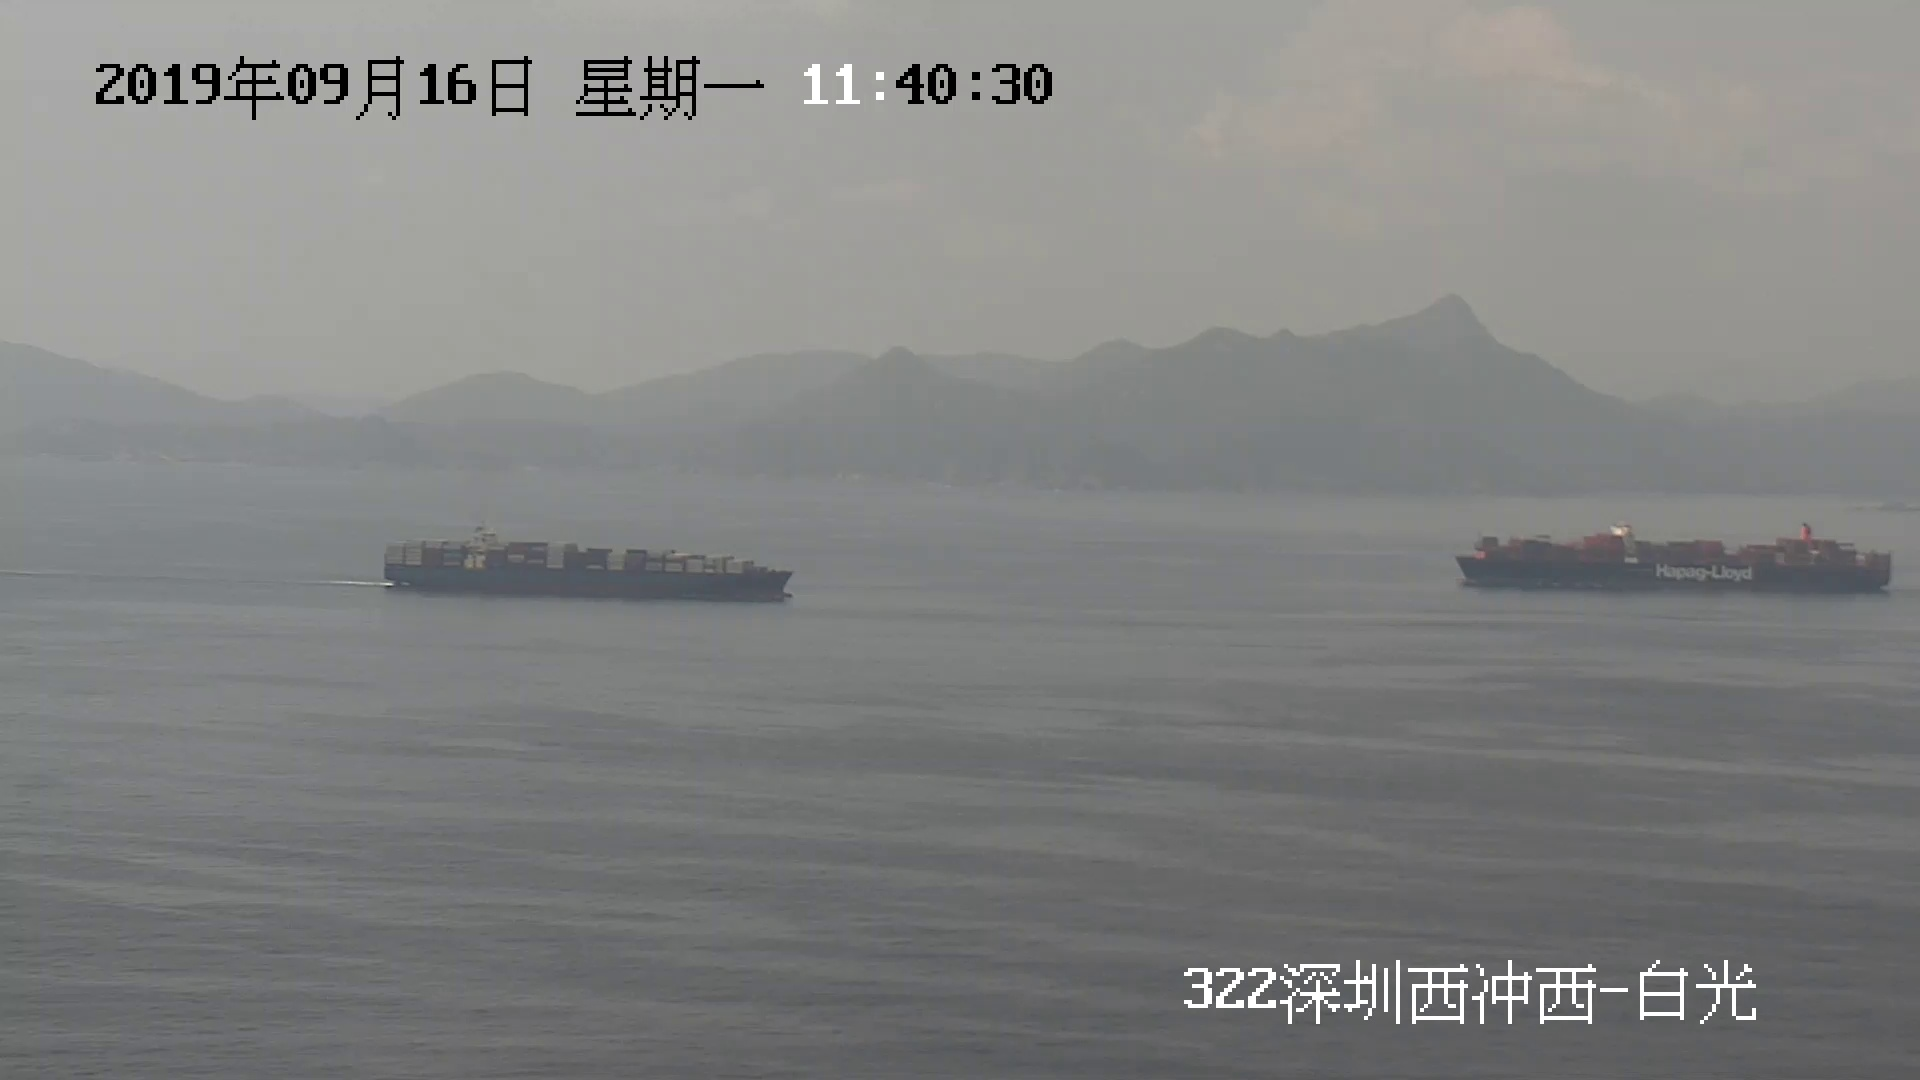ship: (371, 504, 803, 611), (1447, 514, 1898, 596)
